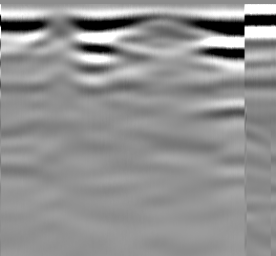pipe: (116, 13, 212, 39), (31, 15, 89, 45)
